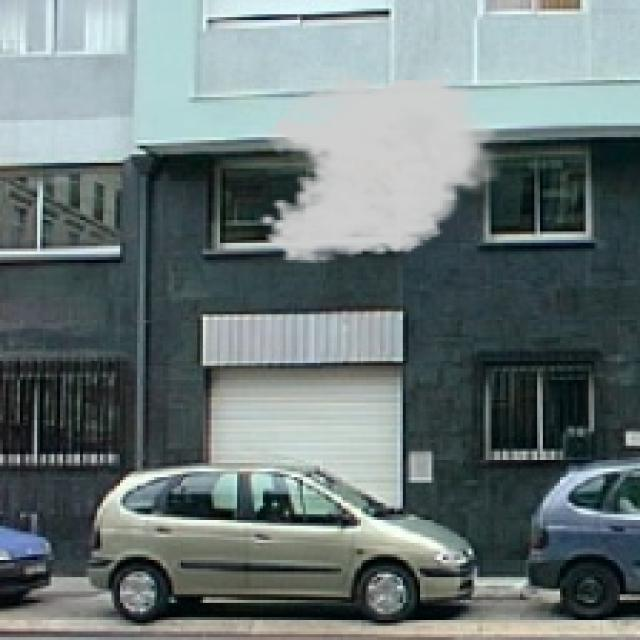Smoke: (257, 63, 509, 266)
